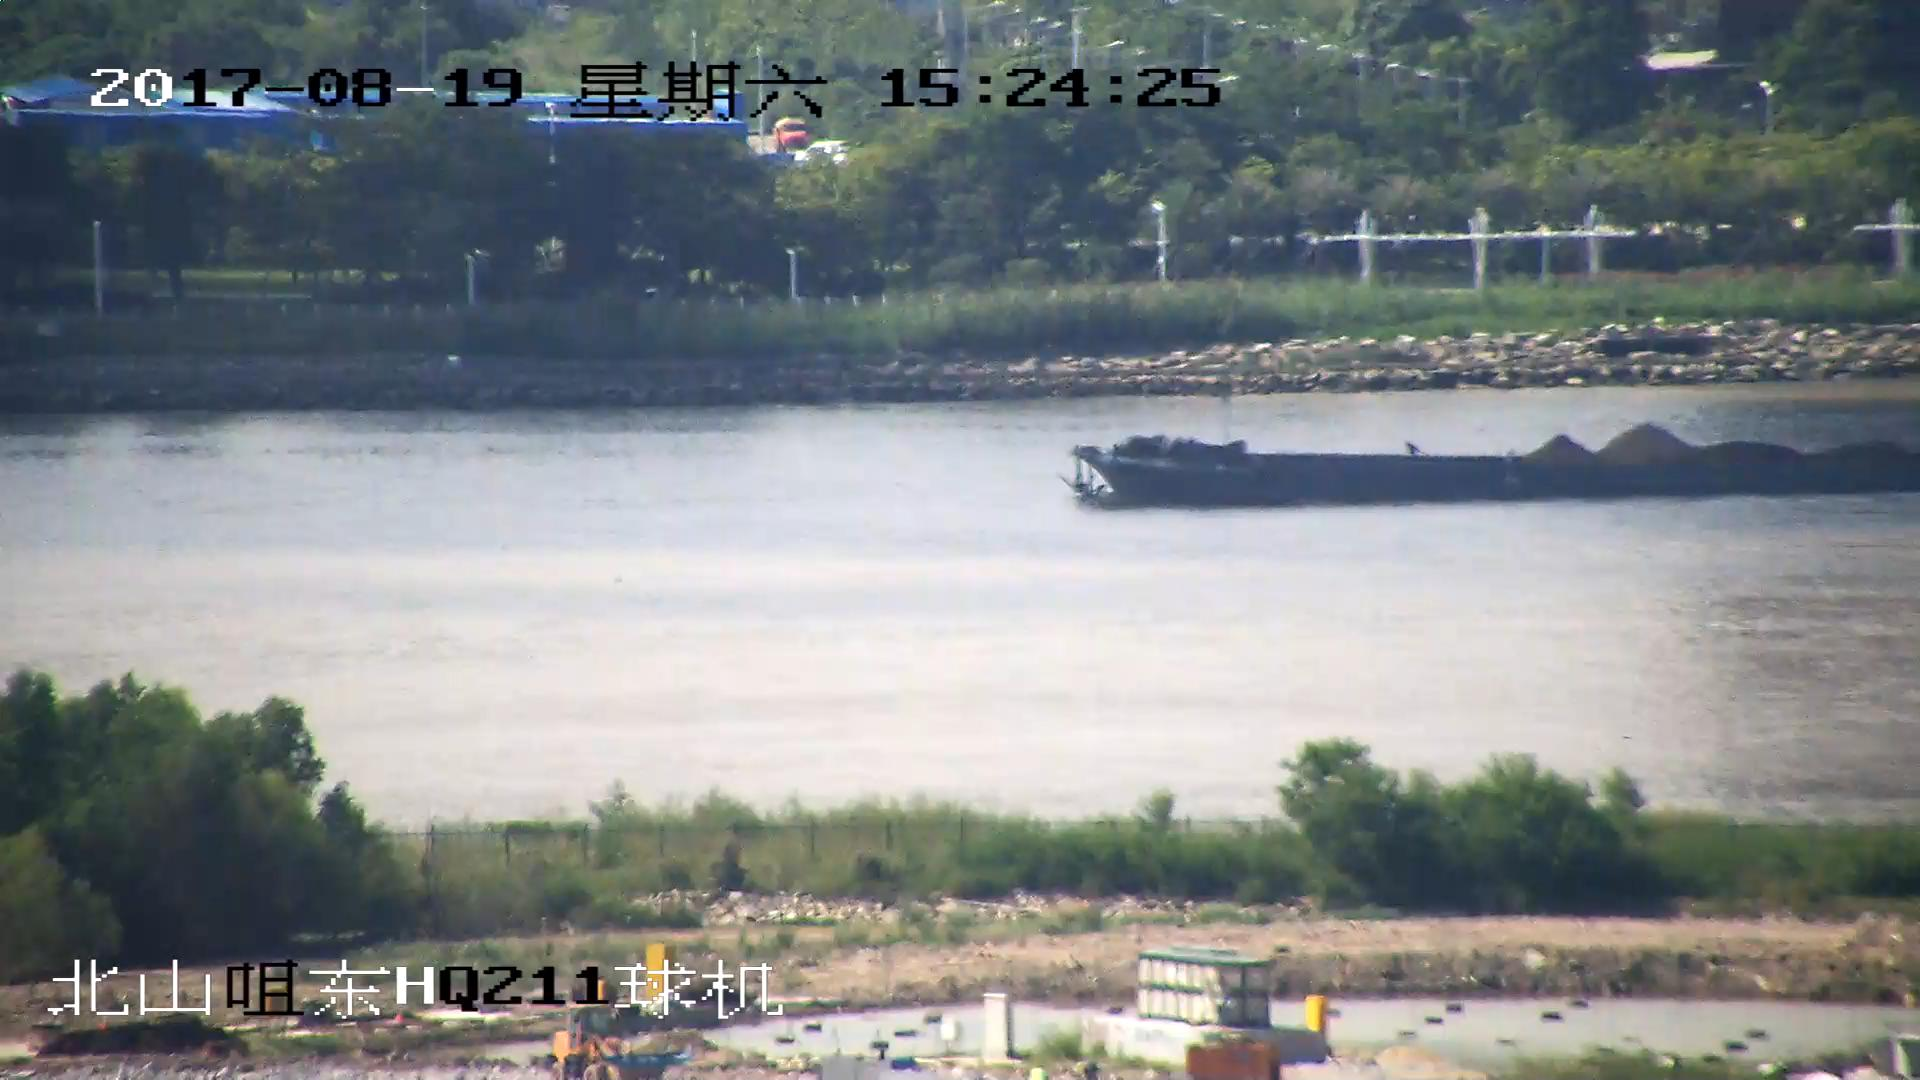ore carrier: (1072, 420, 1920, 510)
